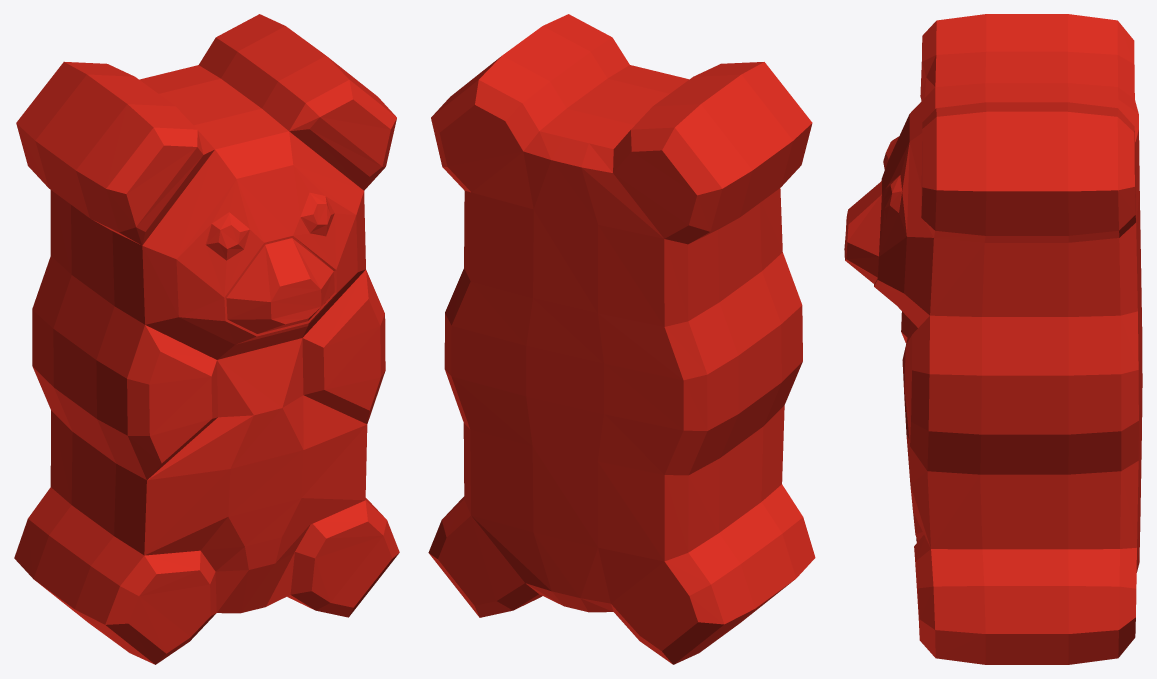
Rendered from gummy.glb.
3 renders of one model, left to right at view 1: azimuth 30°, elevation 25°; view 2: azimuth 150°, elevation 25°; view 3: azimuth 270°, elevation 25°, orthographic.
Visible parts, largest first — view 1: char; view 2: char; view 3: char.
Part boxes in pixels (bbox=[...]): char: bbox=[14, 14, 399, 664]; char: bbox=[428, 14, 815, 664]; char: bbox=[844, 14, 1142, 664].
Size of the model in its own units: 78.94 by 135 by 65.9.
